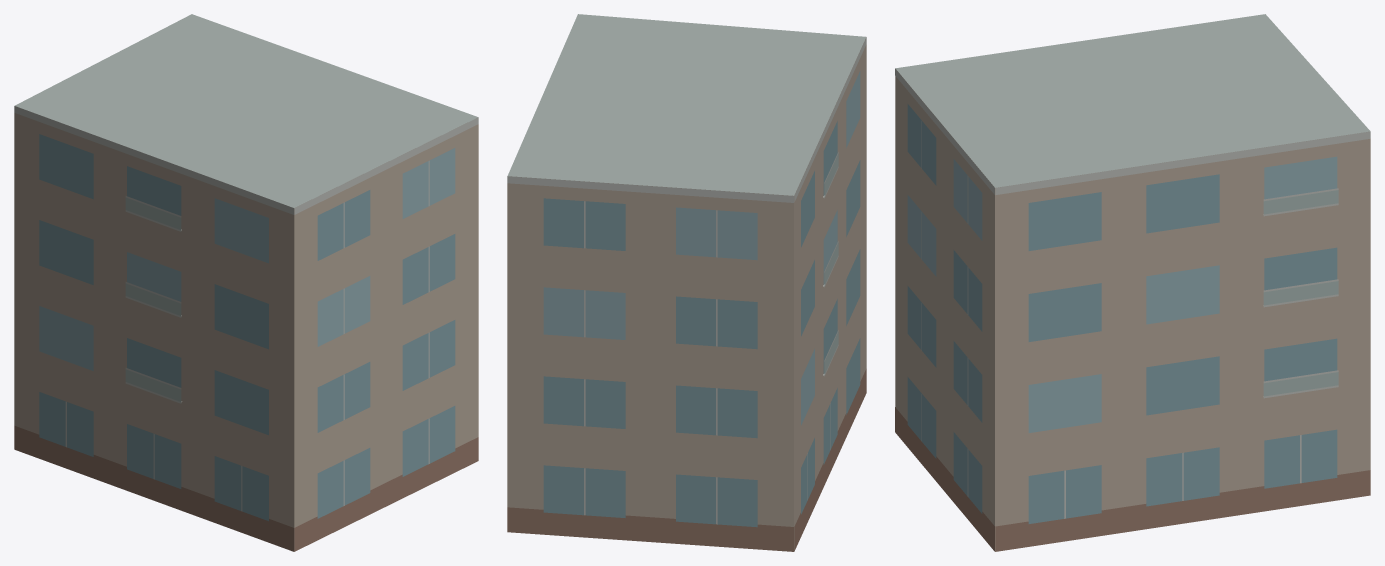
File: survey-upis-33041891.glb
3 renders of one model, left to right at view 1: azimuth 30°, elevation 25°; view 2: azimuth 150°, elevation 25°; view 3: azimuth 270°, elevation 25°, orthographic. The views are drawn at different scales.
Visible parts, largest first — view 1: survey-upis-33041891.tmp; view 2: survey-upis-33041891.tmp; view 3: survey-upis-33041891.tmp.
Boxes of the visible parts, x1,y1,x2,y2 form: survey-upis-33041891.tmp: [14, 14, 478, 551]; survey-upis-33041891.tmp: [507, 14, 866, 551]; survey-upis-33041891.tmp: [895, 14, 1370, 551].
Size of the model in its own units: 12.4 by 12.1 by 14.33.
